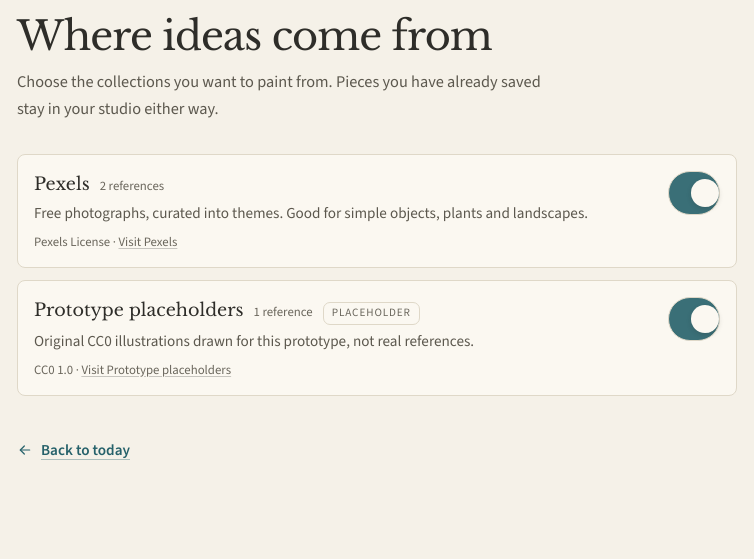
it: Sources: switching a source off › explains an emptied catalogue rather than leaving a blank screen
Click the 1st switch named "Pexels" at {"x": 694, "y": 193}, box [668,171,720,215]
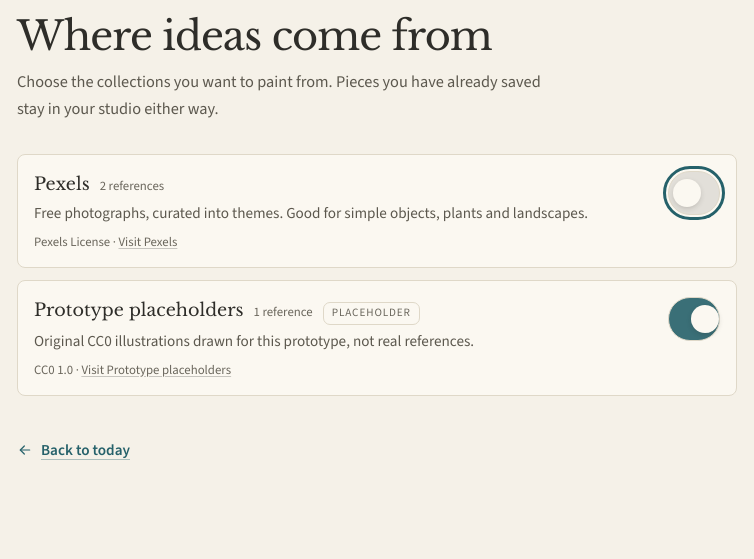
Click the 2nd switch named "Prototype placeholders" at {"x": 694, "y": 319}, box [668,297,720,341]
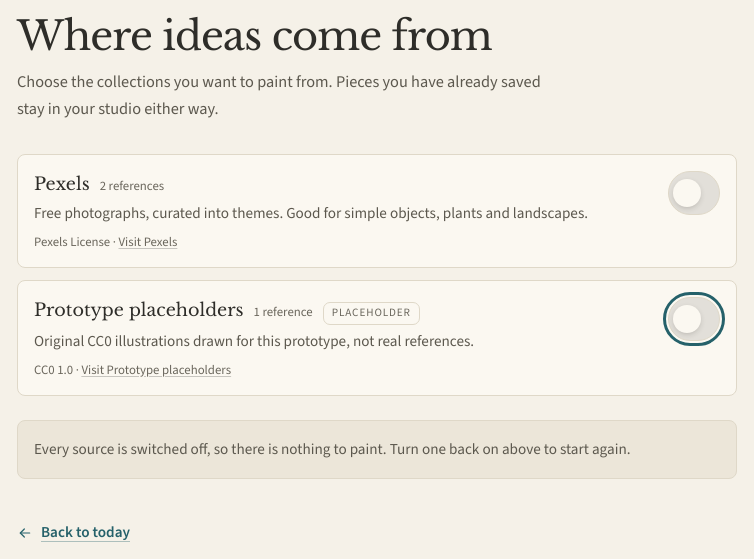
expect the message shows "Every source is switched off": met, box [34,439,630,459]
